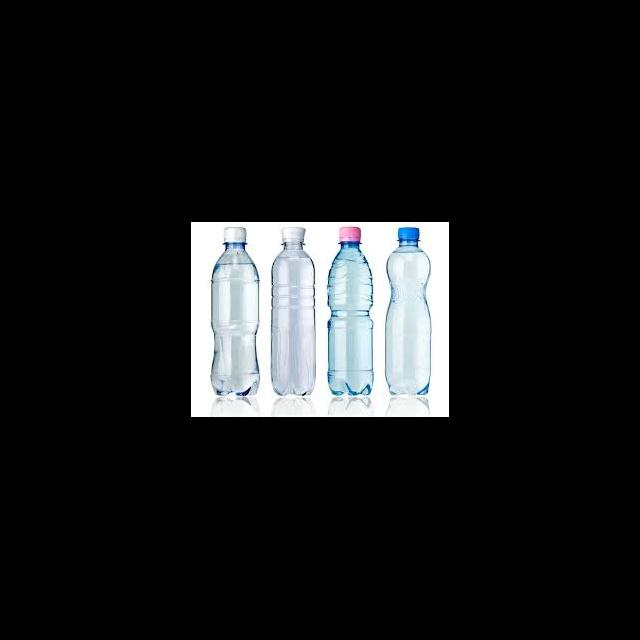plastic: (210, 227, 258, 396), (383, 226, 430, 394), (326, 226, 373, 394), (269, 228, 314, 396), (279, 225, 305, 242), (338, 224, 360, 242), (222, 228, 245, 244), (397, 227, 419, 240)
